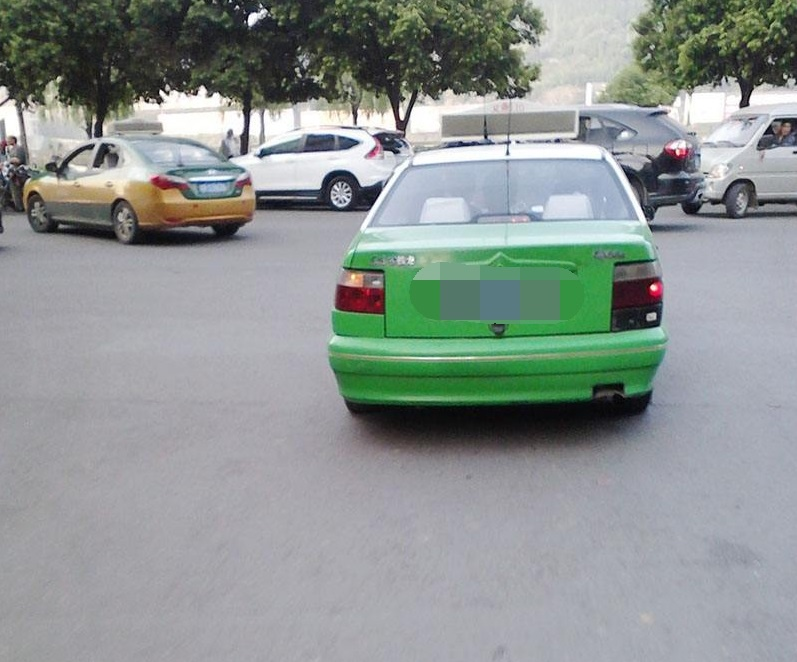SUV: (230, 117, 406, 207)
taxi: (329, 149, 669, 446), (27, 123, 270, 231)
